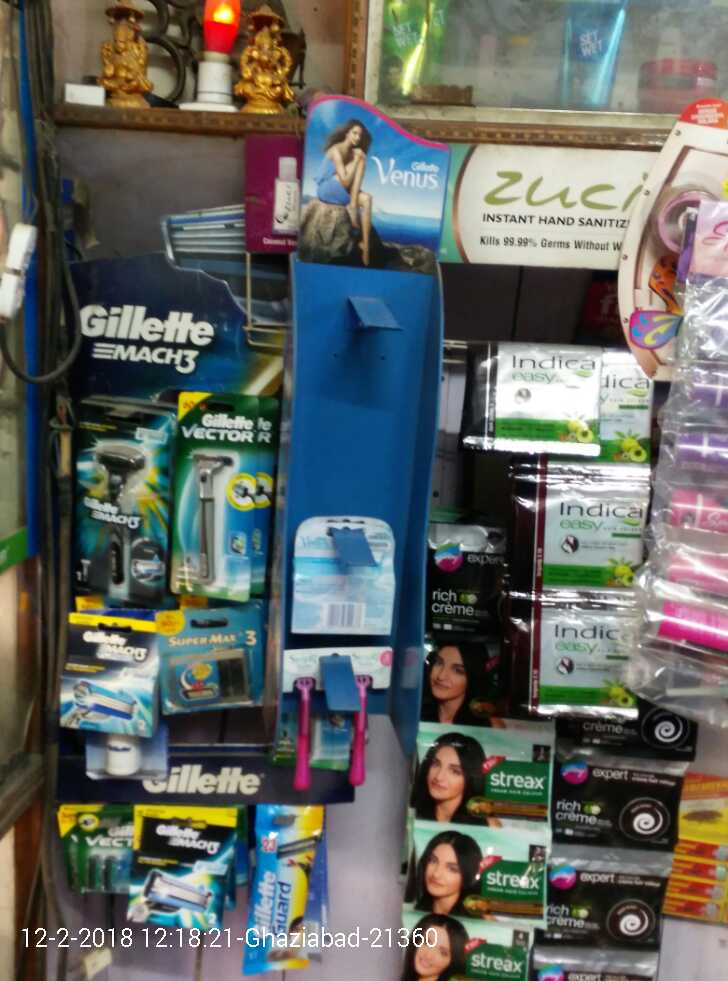gillette: (166, 383, 273, 601), (60, 408, 174, 607), (138, 805, 233, 941), (248, 802, 328, 963), (55, 629, 155, 727), (49, 793, 133, 897)
